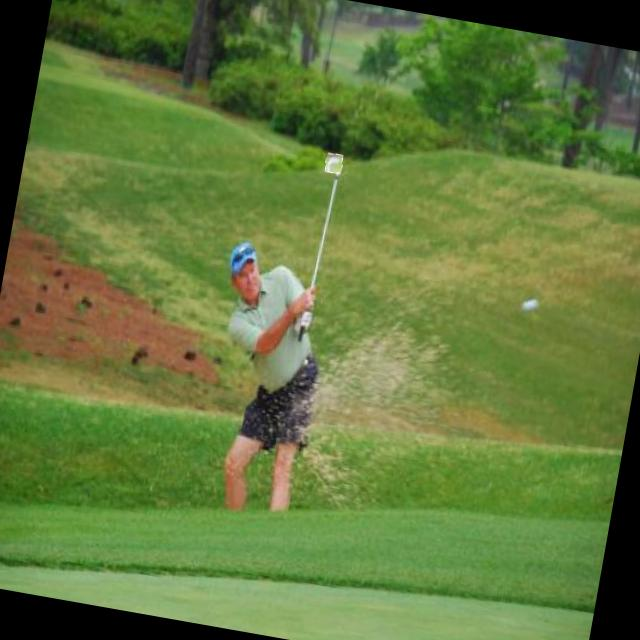club head: (324, 152, 343, 174)
